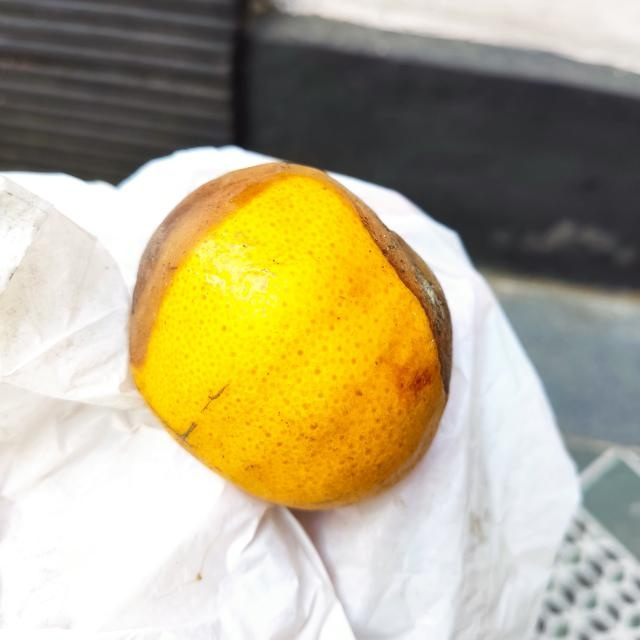agrume: (127, 162, 455, 508)
